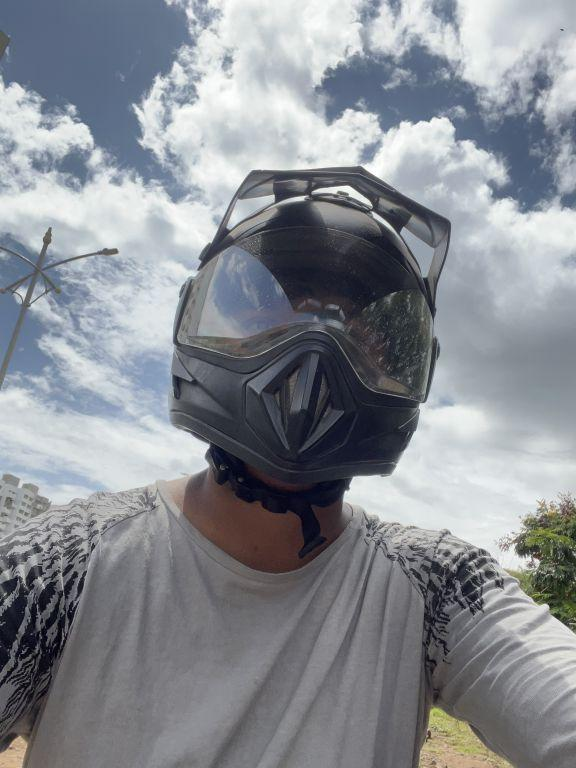helmet: (160, 137, 460, 521)
